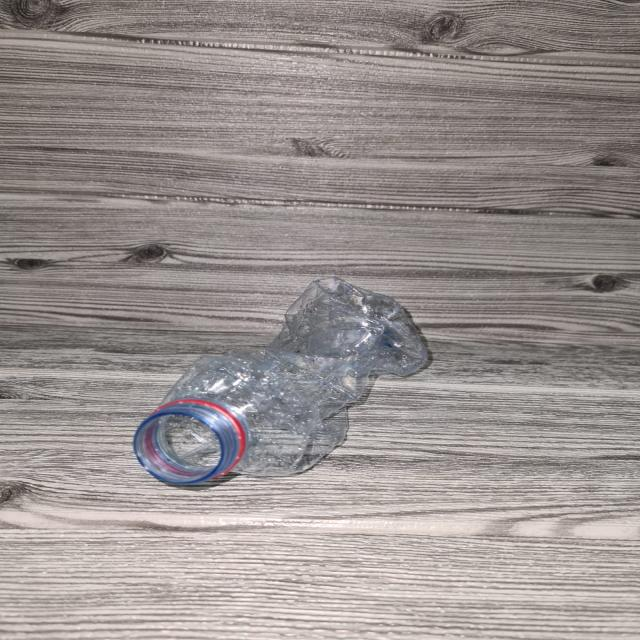plastic bottle: (139, 281, 427, 488)
